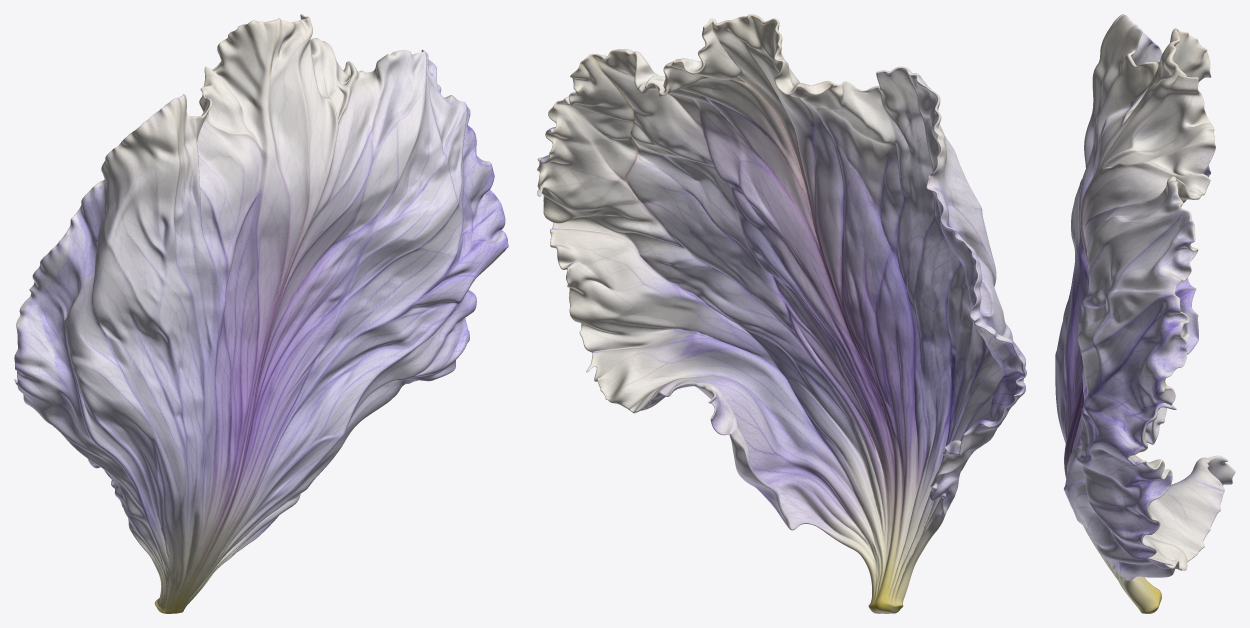
The model's file is Meshy_AI_flower_petal_model_1018011222_image-to-3d-texture.glb.
3 views of the same model, side by side, from view 1: azimuth 30°, elevation 25°; view 2: azimuth 150°, elevation 25°; view 3: azimuth 270°, elevation 25° (orthographic). The views are drawn at different scales.
Bounding box in the file's own units: 1.7 × 1.9 × 0.4919.
Materials: 1 (1 with a texture image).
